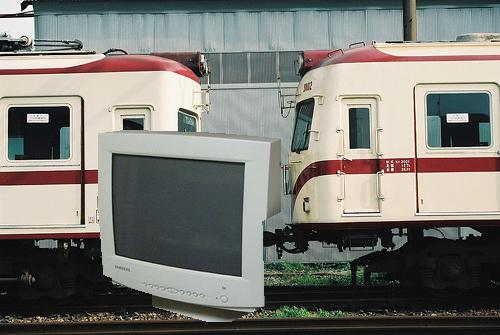tampered: (99, 131, 281, 322)
